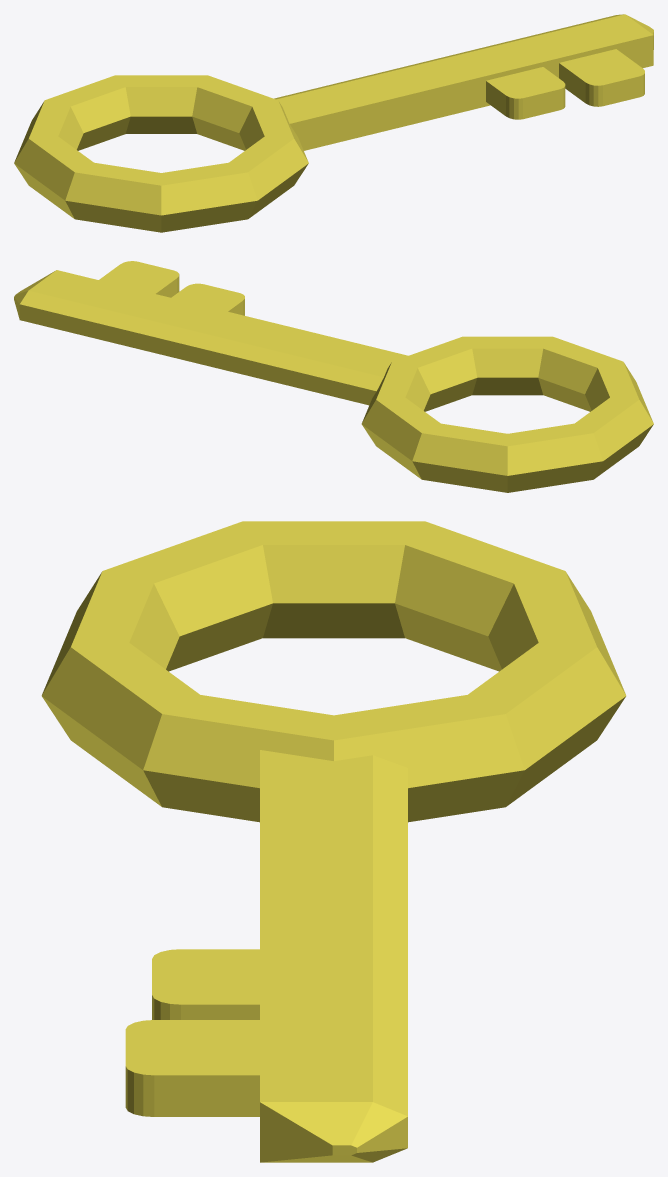
File: key2.fbx
3 views of the same model, one above another, from view 1: azimuth 30°, elevation 25°; view 2: azimuth 150°, elevation 25°; view 3: azimuth 270°, elevation 25° (orthographic). The views are drawn at different scales.
Parts seen in each view (by area): view 1: Circle, Body, Cube.001, Cube; view 2: Circle, Body, Cube.001, Cube; view 3: Circle, Body, Cube.001, Cube.
Boxes of the visible parts, <box> form: Circle: <box>14,75,308,232</box>; Body: <box>274,14,653,150</box>; Cube.001: <box>559,49,644,106</box>; Cube: <box>486,67,565,119</box>; Circle: <box>361,336,653,492</box>; Body: <box>14,270,407,405</box>; Cube.001: <box>99,261,179,297</box>; Cube: <box>171,283,244,315</box>; Circle: <box>41,521,626,822</box>; Body: <box>260,750,407,1162</box>; Cube.001: <box>125,1020,259,1116</box>; Cube: <box>152,949,259,1019</box>.
Size of the model in its own units: 592 by 43.3 by 246.
